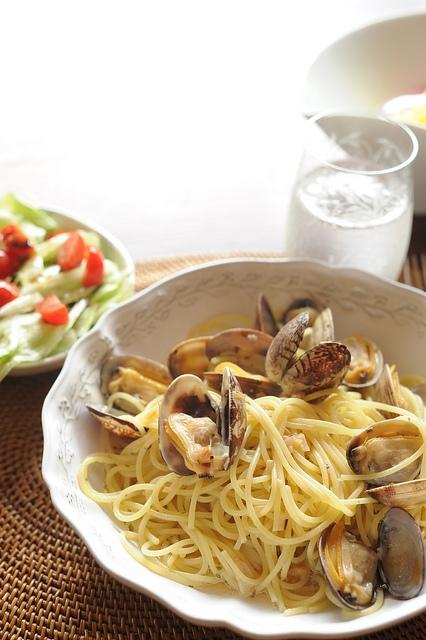lettuce: (0, 299, 89, 383), (71, 266, 134, 338), (2, 194, 58, 231), (0, 292, 45, 319), (18, 252, 44, 287)
tomato: (45, 229, 85, 272), (78, 243, 105, 289), (0, 223, 32, 256), (36, 293, 69, 325), (0, 250, 20, 280), (0, 279, 20, 308)
